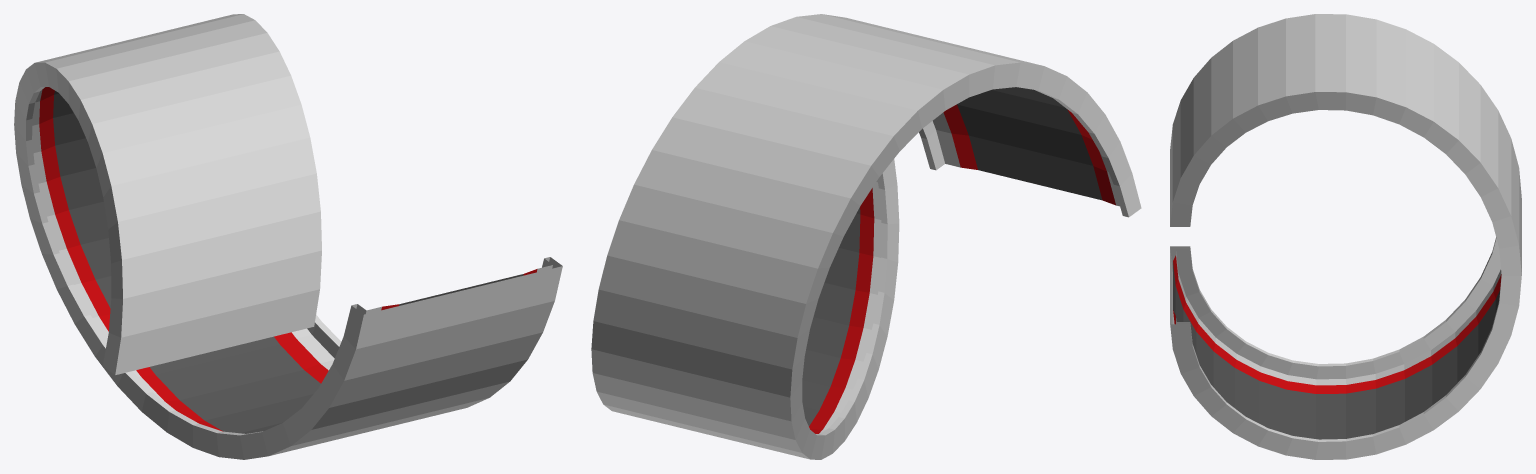
File: Loop_Left.fbx
3 views of the same model, side by side, from view 1: azimuth 30°, elevation 25°; view 2: azimuth 150°, elevation 25°; view 3: azimuth 270°, elevation 25° (orthographic). The views are drawn at different scales.
Parts seen in each view (by area): view 1: Loop_Left; view 2: Loop_Left; view 3: Loop_Left.
Boxes of the visible parts, x1,y1,x2,y2 form: Loop_Left: (14, 14, 562, 459); Loop_Left: (591, 14, 1141, 459); Loop_Left: (1170, 14, 1521, 459).
Size of the model in its own units: 2880 by 2440 by 2440.
